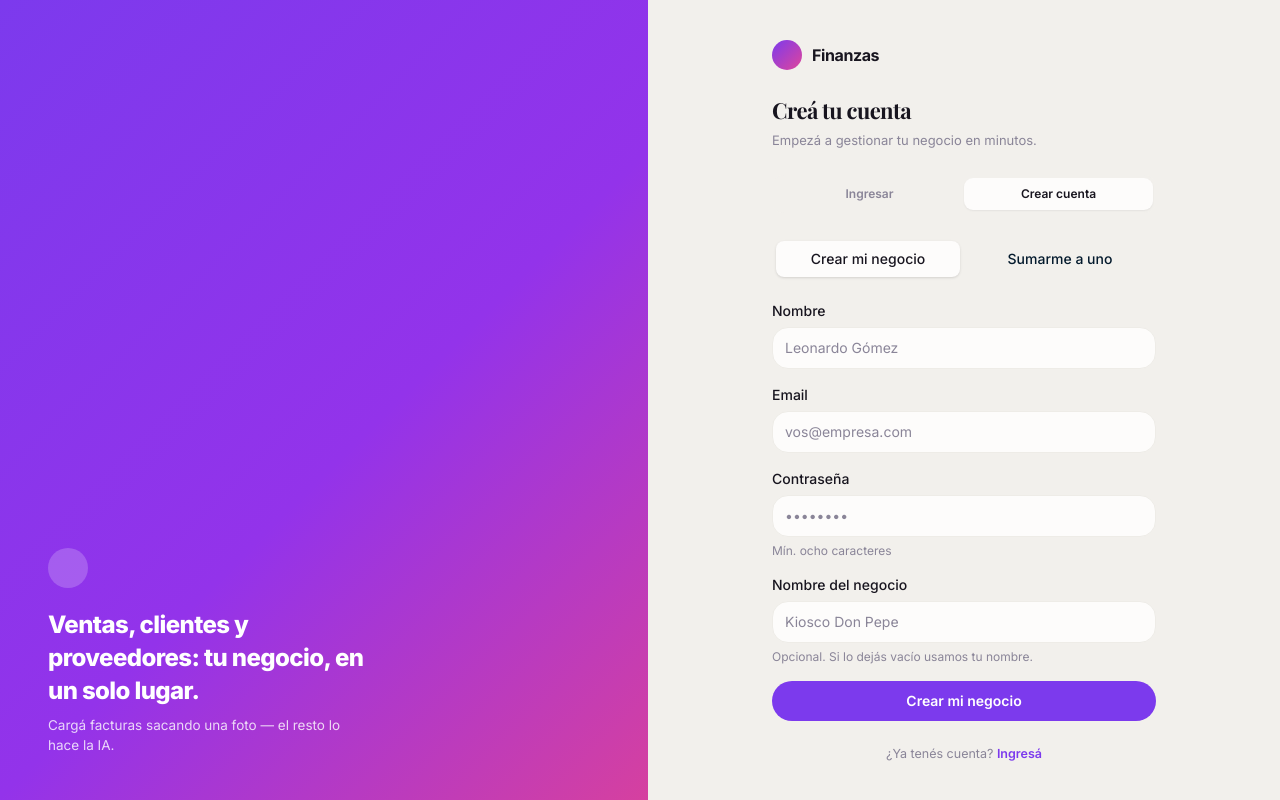
Test: RegisterPage — dos caminos › el camino de invitación pide código y no pide nombre de negocio
Click the radio button labelled "Sumarme a uno" at {"x": 1060, "y": 258}, box [968,240,1152,276]
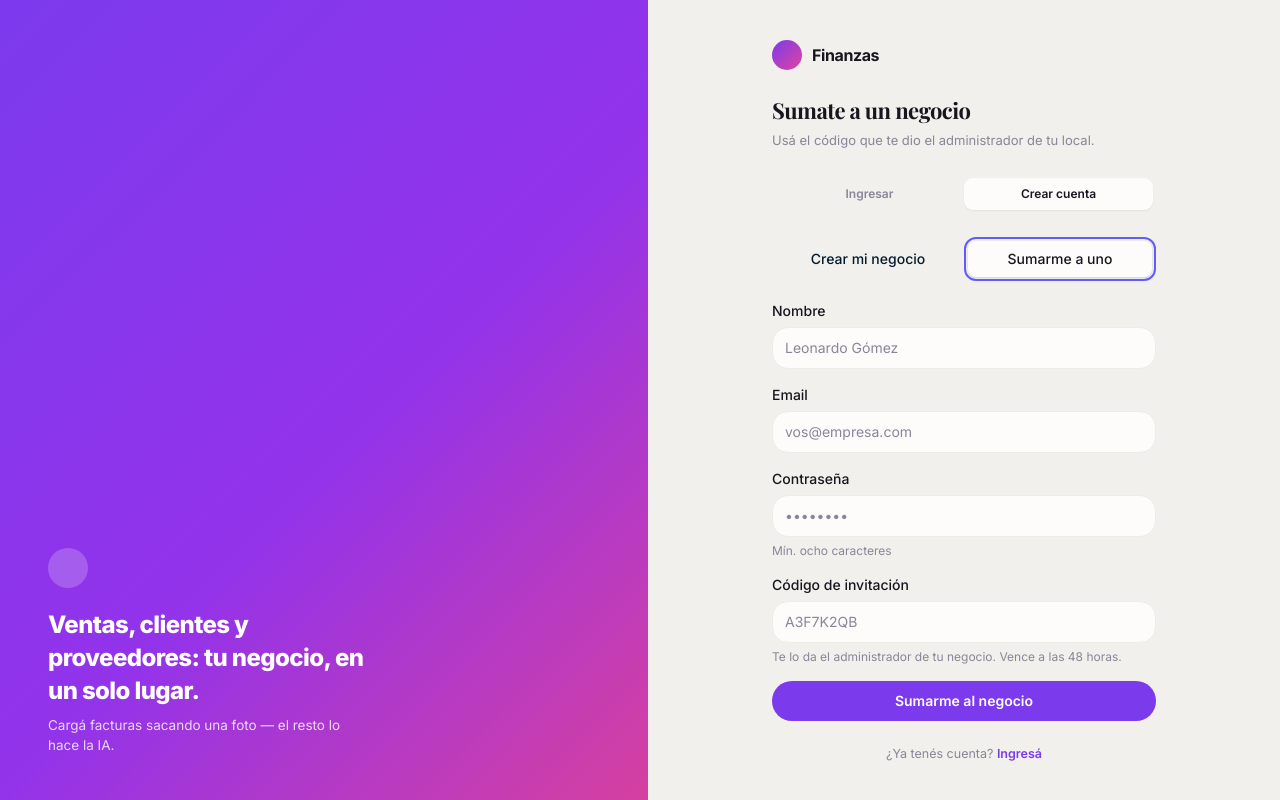
expect the field labelled "Código de invitación" is shown: met, box [772,600,1156,642]
expect the label labelled "Nombre del negocio" is gone: met
